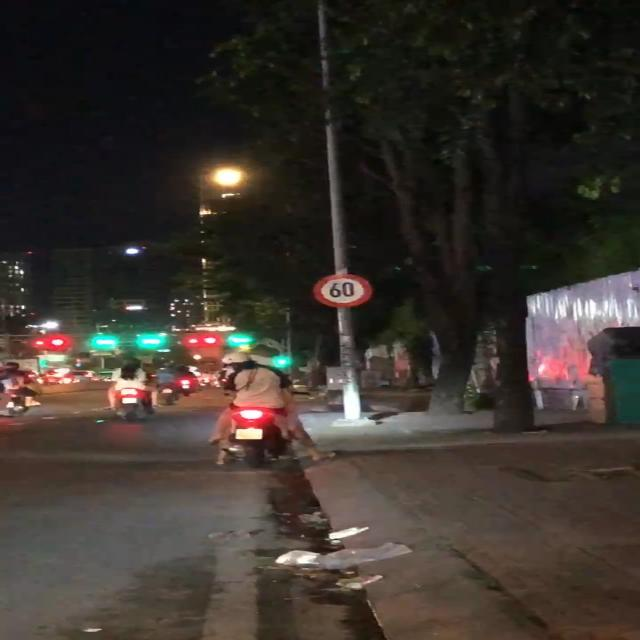Bien bao toc do toi da cho phep: (309, 270, 381, 312)
